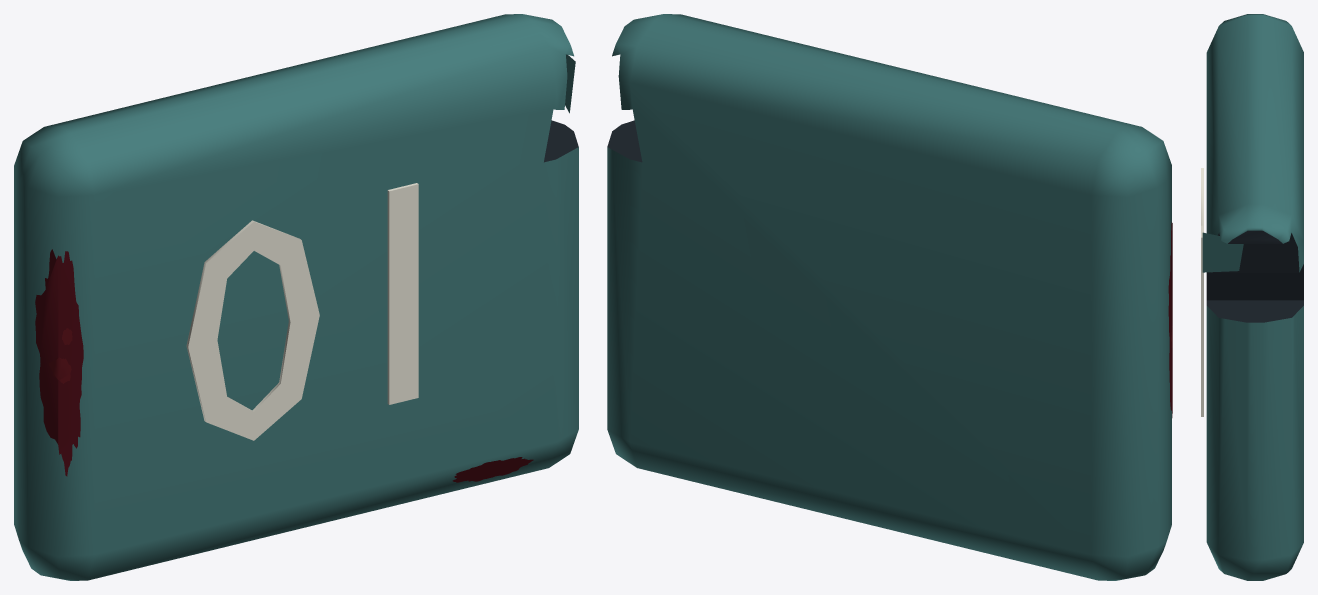
The model's file is recovery_bay_sign_01.glb.
The picture shows the model from 3 angles, left to right: view 1: azimuth 30°, elevation 25°; view 2: azimuth 150°, elevation 25°; view 3: azimuth 270°, elevation 25°; orthographic projection. The views are drawn at different scales.
Visible parts, largest first — view 1: recovery_bay_sign_01_Outbreak_Static; view 2: recovery_bay_sign_01_Outbreak_Static; view 3: recovery_bay_sign_01_Outbreak_Static.
Part boxes in pixels (x1,y1,x2,y2): recovery_bay_sign_01_Outbreak_Static: [14, 14, 578, 580]; recovery_bay_sign_01_Outbreak_Static: [607, 14, 1172, 580]; recovery_bay_sign_01_Outbreak_Static: [1201, 14, 1303, 580].
Size of the model in its own units: 0.37 by 0.29 by 0.072.
